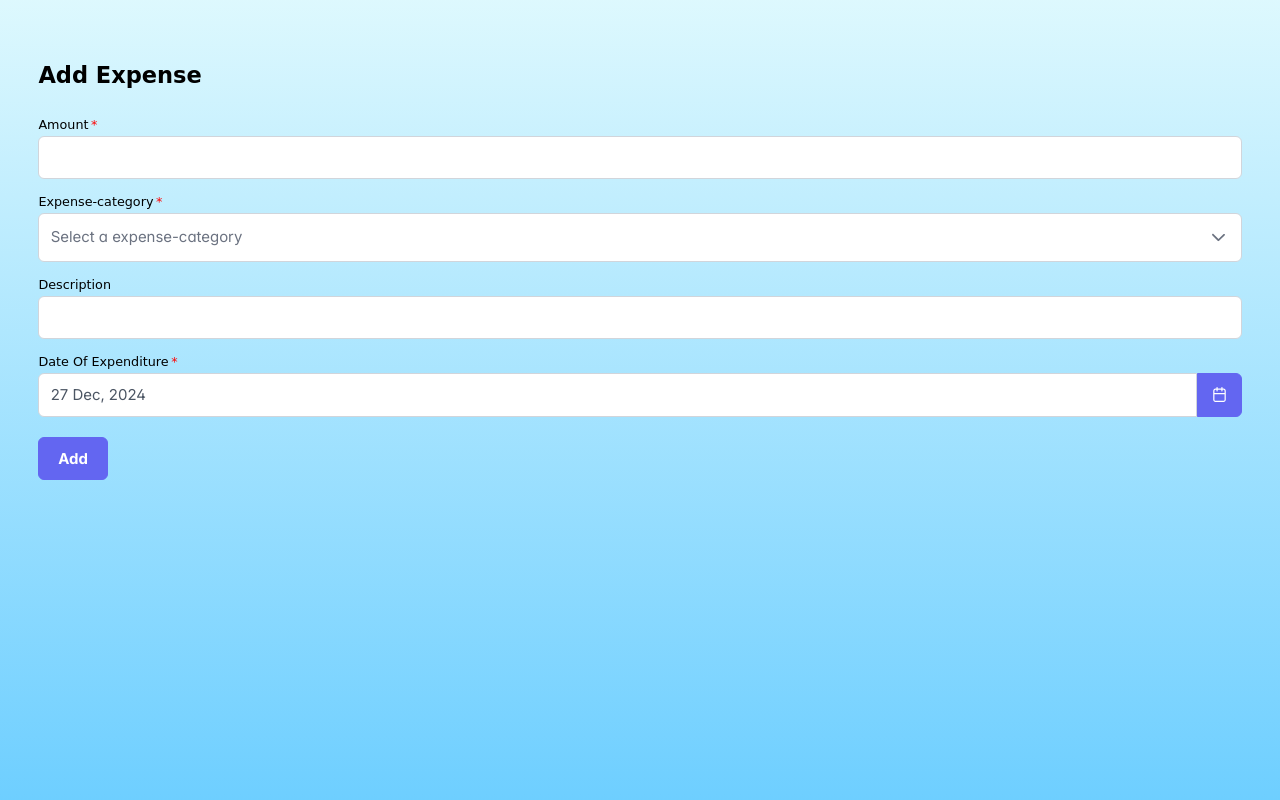
Test: ExpenseForm component › should show missing field messages when required
The width and height of the screenshot is (1280, 800).
expect the field labelled "Amount" is shown: met, box [38, 136, 1242, 179]
expect the element with test id "expenseCategory" is shown: met, box [38, 213, 1242, 262]
In the field labelled "Description": (640, 317) [38, 296, 1242, 339], type "Flight Tickets"
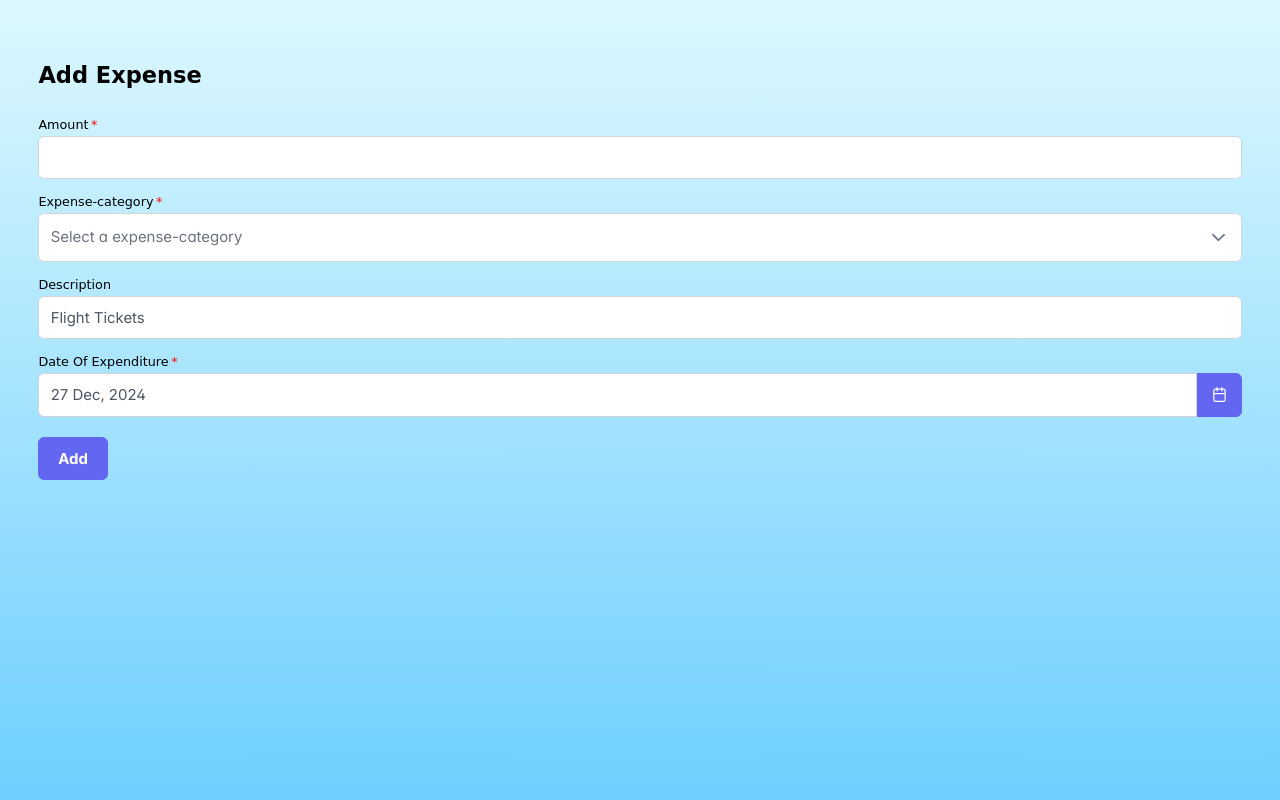
Click the button labelled "Add": (73, 458) [38, 437, 108, 480]
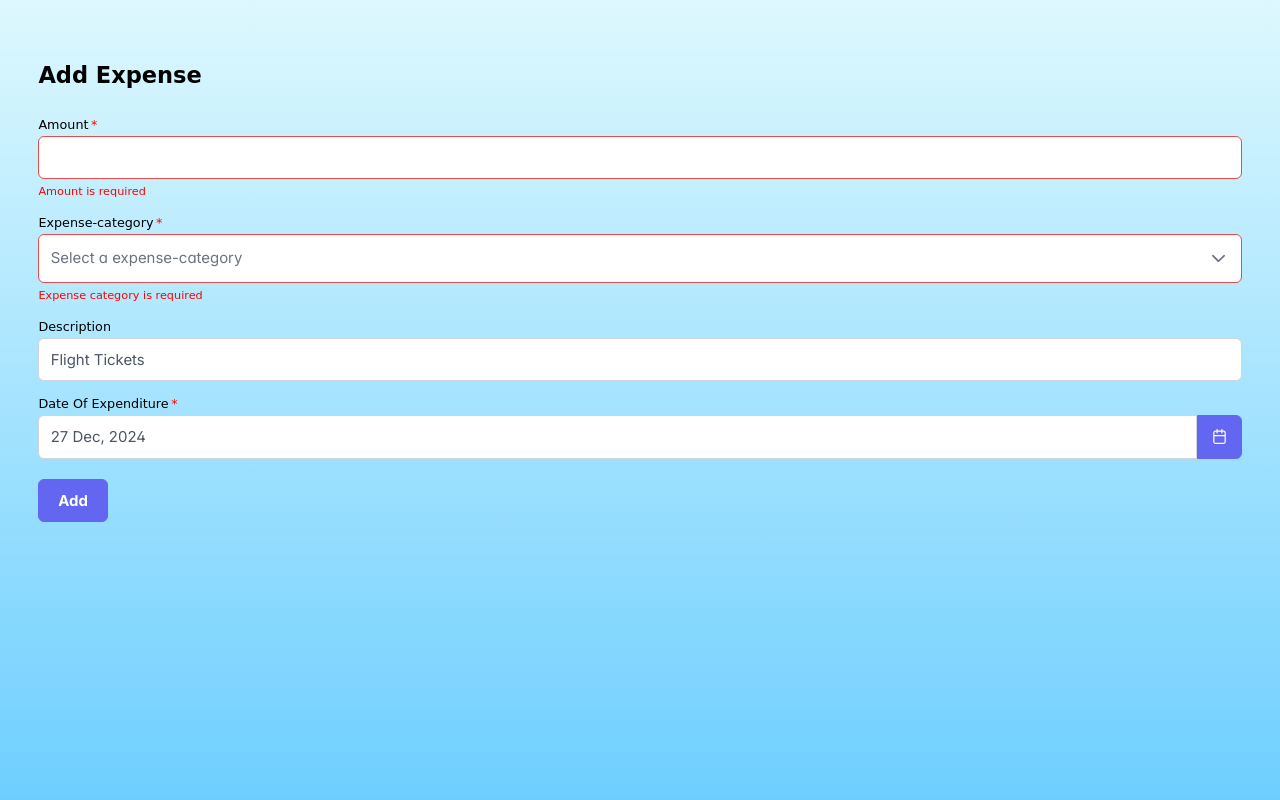
expect the text "Amount is required" is shown: met, box [38, 185, 146, 198]
expect the text "Expense category is required" is shown: met, box [38, 289, 203, 302]
